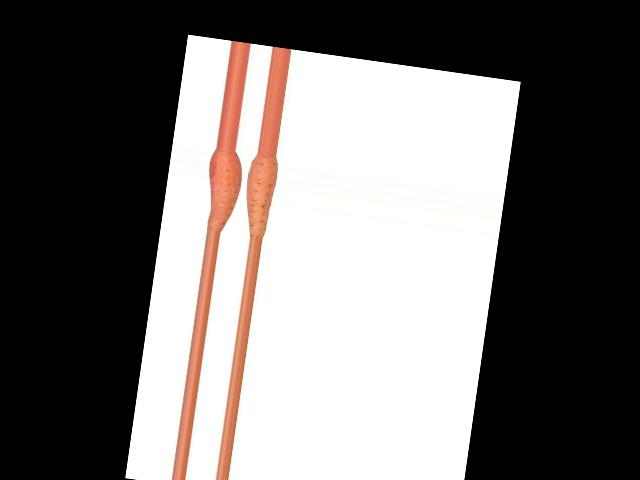sweet_potato: (239, 153, 279, 237)
